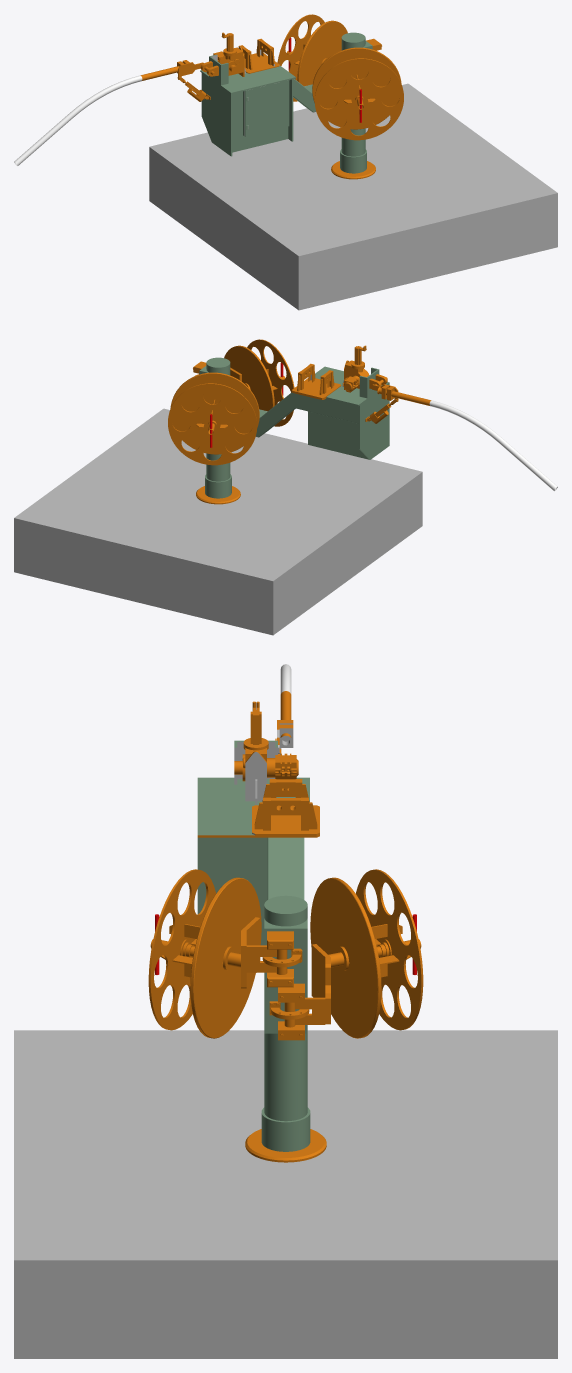
File: RodFeeder.obj
3 views of the same model, one above another, from view 1: azimuth 30°, elevation 25°; view 2: azimuth 150°, elevation 25°; view 3: azimuth 270°, elevation 25° (orthographic). The views are drawn at different scales.
Parts seen in each view (by area): view 1: Rod_Feeder; view 2: Rod_Feeder; view 3: Rod_Feeder.
Part boxes in pixels (x1=…): Rod_Feeder: x1=14, y1=14, x2=557, y2=310; Rod_Feeder: x1=14, y1=339, x2=557, y2=635; Rod_Feeder: x1=14, y1=664, x2=557, y2=1358.
Size of the model in its own units: 362 by 170 by 200.
